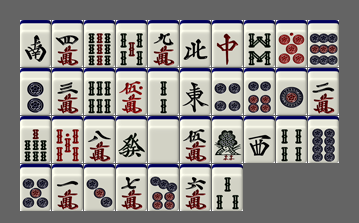0m: (116, 68, 147, 115)
0p: (276, 20, 307, 67)
0s: (52, 116, 83, 163)
1m: (52, 164, 83, 211)
1p: (276, 68, 307, 115)
1s: (212, 116, 243, 163)
1z: (180, 68, 211, 115)
2m: (308, 68, 339, 115)
2p: (20, 68, 51, 115)
2s: (148, 68, 179, 115)
2z: (20, 20, 51, 67)
3m: (52, 68, 83, 115)
3p: (84, 164, 115, 211)
3s: (212, 164, 243, 211)
3z: (244, 116, 275, 163)
4m: (52, 20, 83, 67)
4p: (212, 68, 243, 115)
4s: (276, 116, 307, 163)
4z: (180, 20, 211, 67)
5m: (180, 116, 211, 163)
5p: (20, 164, 51, 211)
5s: (116, 20, 147, 67)
5z: (148, 116, 179, 163)
6m: (180, 164, 211, 211)
6p: (244, 68, 275, 115)
6s: (84, 68, 115, 115)
6z: (116, 116, 147, 163)
7m: (116, 164, 147, 211)
7p: (148, 164, 179, 211)
7s: (20, 116, 51, 163)
7z: (212, 20, 243, 67)
8m: (84, 116, 115, 163)
8p: (308, 116, 339, 163)
8s: (244, 20, 275, 67)
9m: (148, 20, 179, 67)
9p: (308, 20, 339, 67)
9s: (84, 20, 115, 67)
